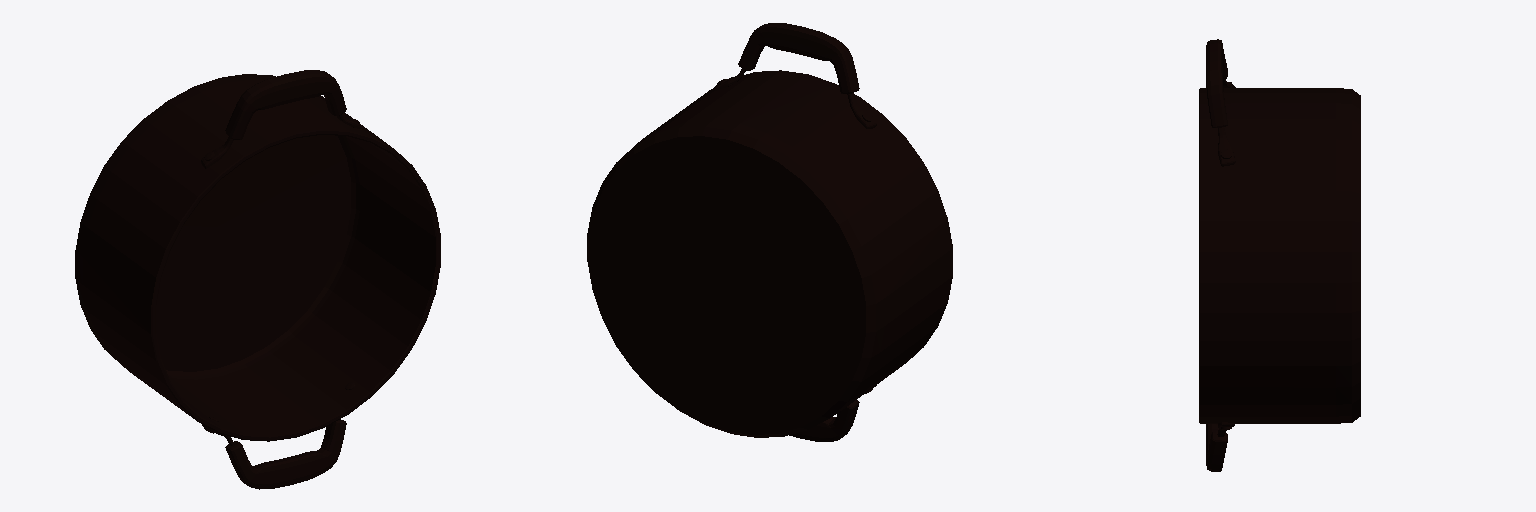
File: pot.obj
3 views of the same model, side by side, from view 1: azimuth 30°, elevation 25°; view 2: azimuth 150°, elevation 25°; view 3: azimuth 270°, elevation 25° (orthographic).
Parts seen in each view (by area): view 1: Pot_meshId0_name; view 2: Pot_meshId0_name; view 3: Pot_meshId0_name.
Boxes of the visible parts, x1=… form: Pot_meshId0_name: x1=75, y1=70, x2=440, y2=489; Pot_meshId0_name: x1=587, y1=23, x2=952, y2=441; Pot_meshId0_name: x1=1199, y1=39, x2=1360, y2=471.
Size of the model in its own units: 1.13 by 1.51 by 0.542.